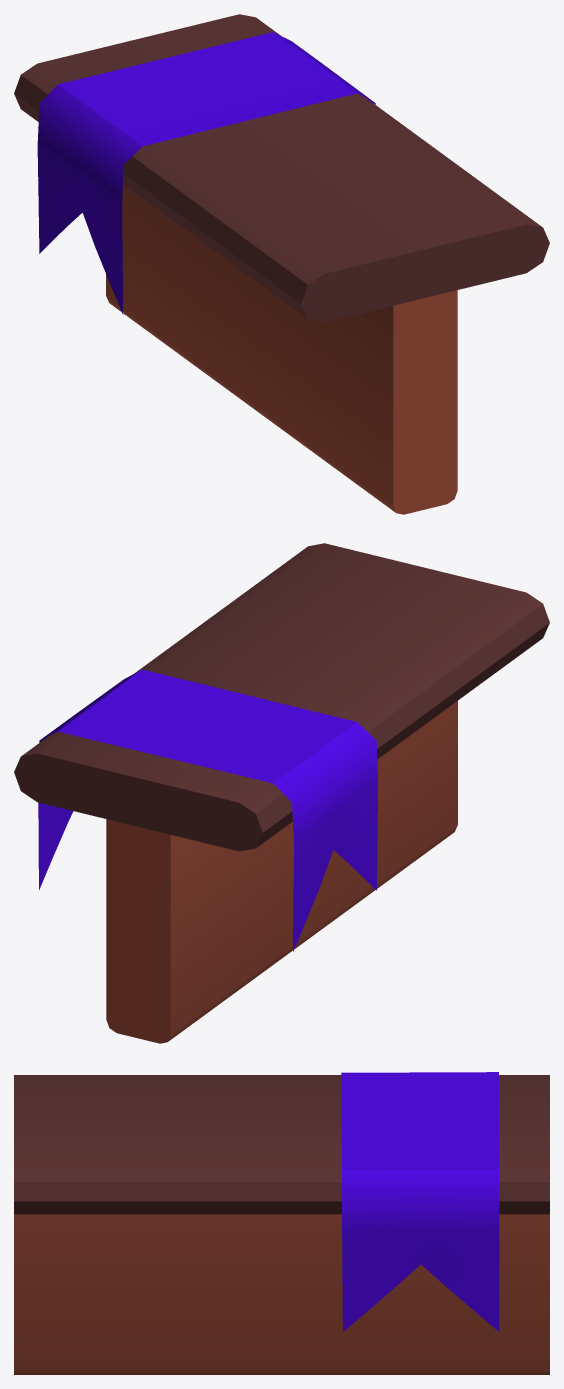
Rendered from handin station with color.fbx.
3 views of the same model, one above another, from view 1: azimuth 30°, elevation 25°; view 2: azimuth 150°, elevation 25°; view 3: azimuth 270°, elevation 25° (orthographic). The views are drawn at different scales.
Visible parts, largest first — view 1: customer counter.001, Plane; view 2: customer counter.001, Plane; view 3: customer counter.001, Plane.
Boxes of the visible parts, x1=… form: customer counter.001: x1=14, y1=14, x2=549, y2=514; Plane: x1=37, y1=32, x2=375, y2=314; customer counter.001: x1=14, y1=543, x2=549, y2=1043; Plane: x1=38, y1=669, x2=378, y2=951; customer counter.001: x1=14, y1=1075, x2=549, y2=1374; Plane: x1=341, y1=1072, x2=499, y2=1331.
Size of the model in its own units: 103 by 100 by 200.
